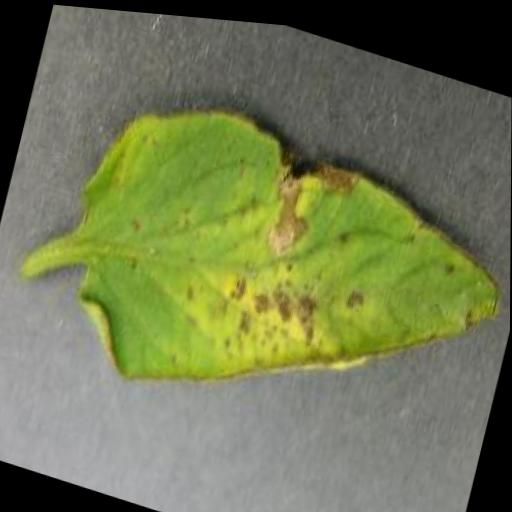Bacterial Spot: (0, 38, 512, 494)
